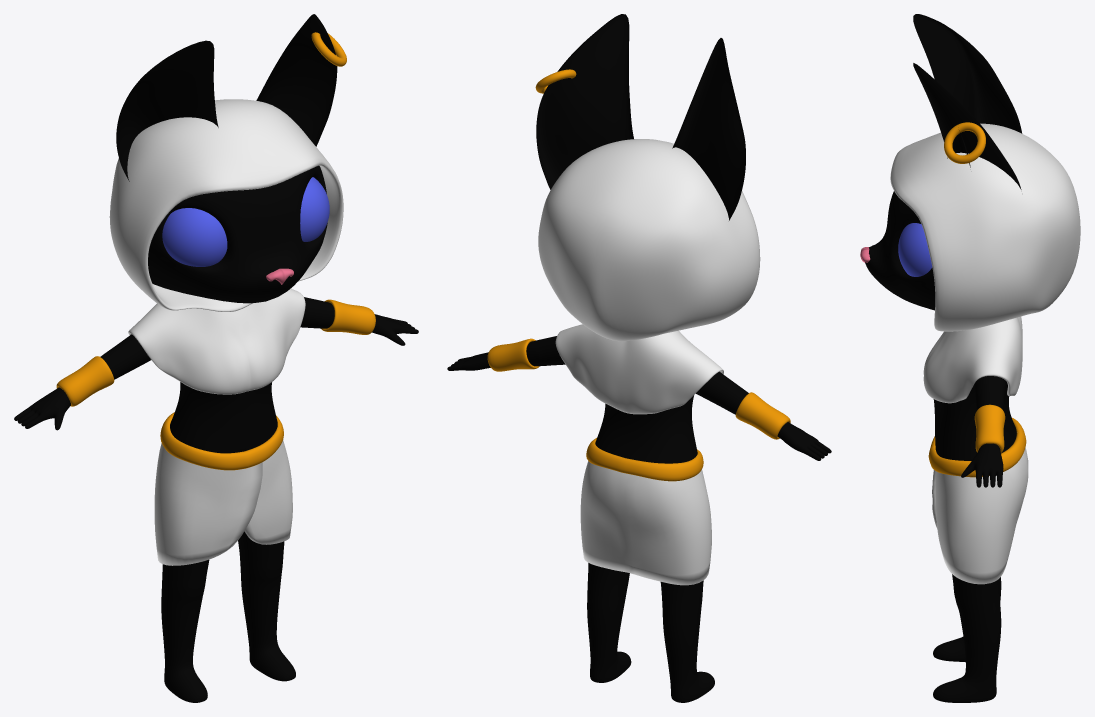
File: Egyptian_Cat.fbx
The picture shows the model from 3 angles, left to right: view 1: azimuth 30°, elevation 25°; view 2: azimuth 150°, elevation 25°; view 3: azimuth 270°, elevation 25°; orthographic projection. The views are drawn at different scales.
Visible parts, largest first — view 1: Hood, Body, Head, Skirt, Top, Ears, Eyes, Braclets, Belt; view 2: Hood, Ears, Body, Skirt, Top, Braclets, Belt; view 3: Hood, Body, Skirt, Ears, Top, Head, Eyes, Belt, Braclets, Earing.
Boxes of the visible parts, x1,y1,x2,y2 form: Hood: (109, 99, 343, 311); Body: (14, 297, 418, 702); Head: (148, 165, 327, 303); Skirt: (154, 440, 292, 565); Top: (128, 288, 305, 394); Ears: (116, 14, 337, 181); Eyes: (162, 177, 329, 266); Braclets: (56, 299, 375, 406); Belt: (160, 412, 283, 470); Hood: (538, 139, 760, 341); Ears: (536, 14, 745, 220); Body: (447, 336, 831, 702); Skirt: (580, 461, 711, 585); Top: (555, 324, 723, 414); Braclets: (487, 338, 790, 439); Belt: (586, 438, 703, 481); Hood: (890, 123, 1080, 331); Body: (933, 376, 1016, 702); Skirt: (932, 448, 1028, 584); Ears: (913, 14, 1022, 189); Top: (923, 316, 1022, 403); Head: (865, 191, 935, 310); Eyes: (898, 223, 932, 276); Belt: (928, 418, 1026, 477); Braclets: (974, 404, 1005, 452); Earing: (944, 122, 985, 163).
Size of the model in its own units: 349 by 570 by 177.
